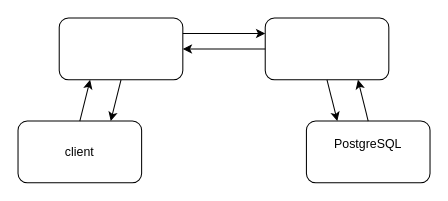
Some shapes in this 448 by 201 pixel diagram are drawn without their labels. The shapes that lost their labels are listed below. From the top down, each one's box as (x1, y1, x2, y2) in pixels, then its label:
(58, 17, 183, 80): Nginx (reverse proxy)
(264, 17, 389, 80): Apache Tomcat
